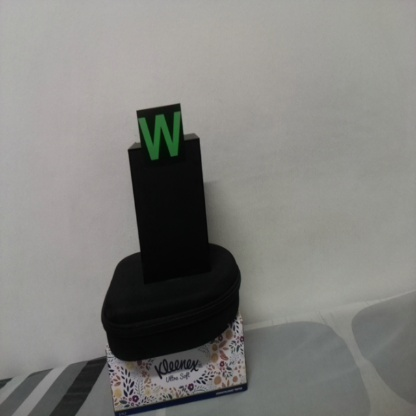id_12: (135, 109, 187, 168)
